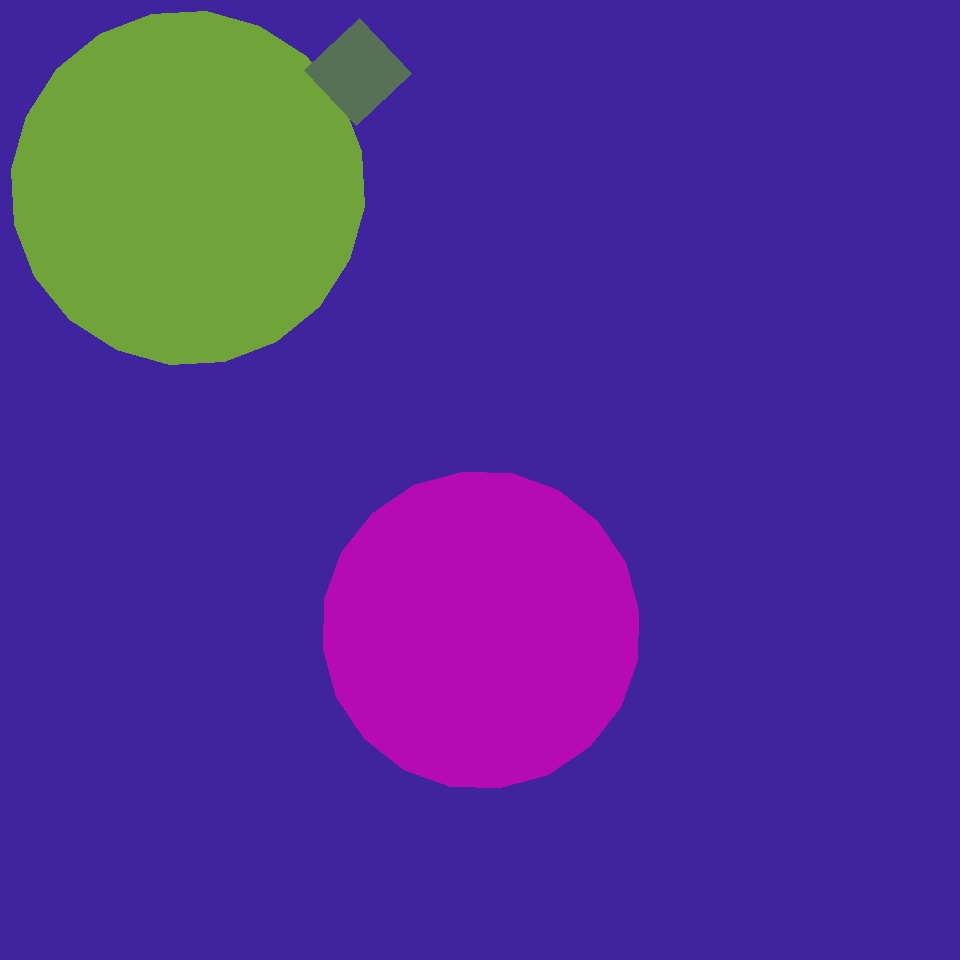circle: (597, 180, 816, 384)
square: (343, 663, 617, 938), (567, 404, 830, 667), (304, 18, 412, 126)
triangle: (11, 11, 364, 364), (324, 472, 638, 788)
